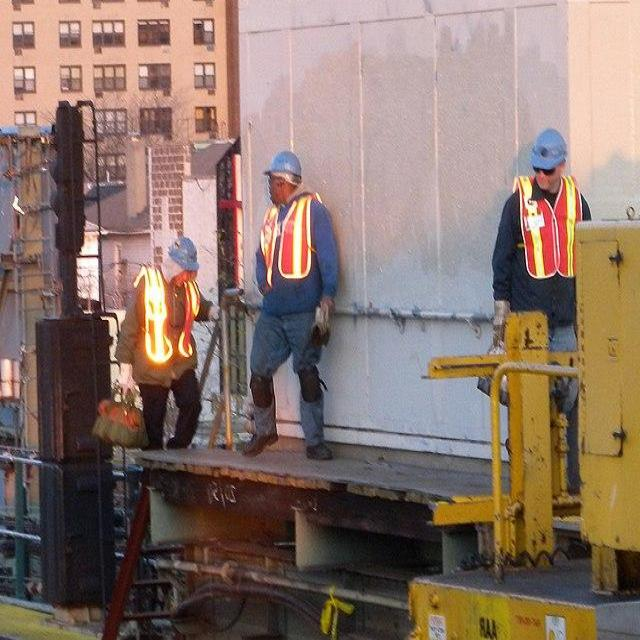Reflective-Jacket: (501, 171, 591, 293), (252, 193, 337, 302), (128, 264, 209, 375)
Safety-Helmet: (520, 120, 576, 177), (158, 230, 207, 280), (258, 143, 310, 188)
